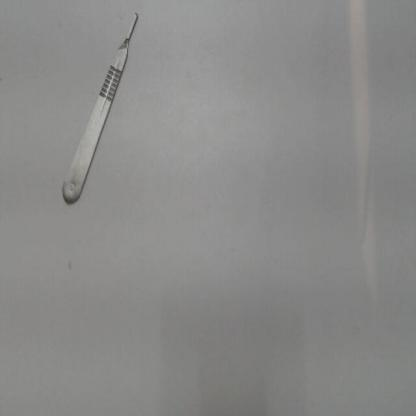No.3 BP Handle: (57, 8, 149, 220)
